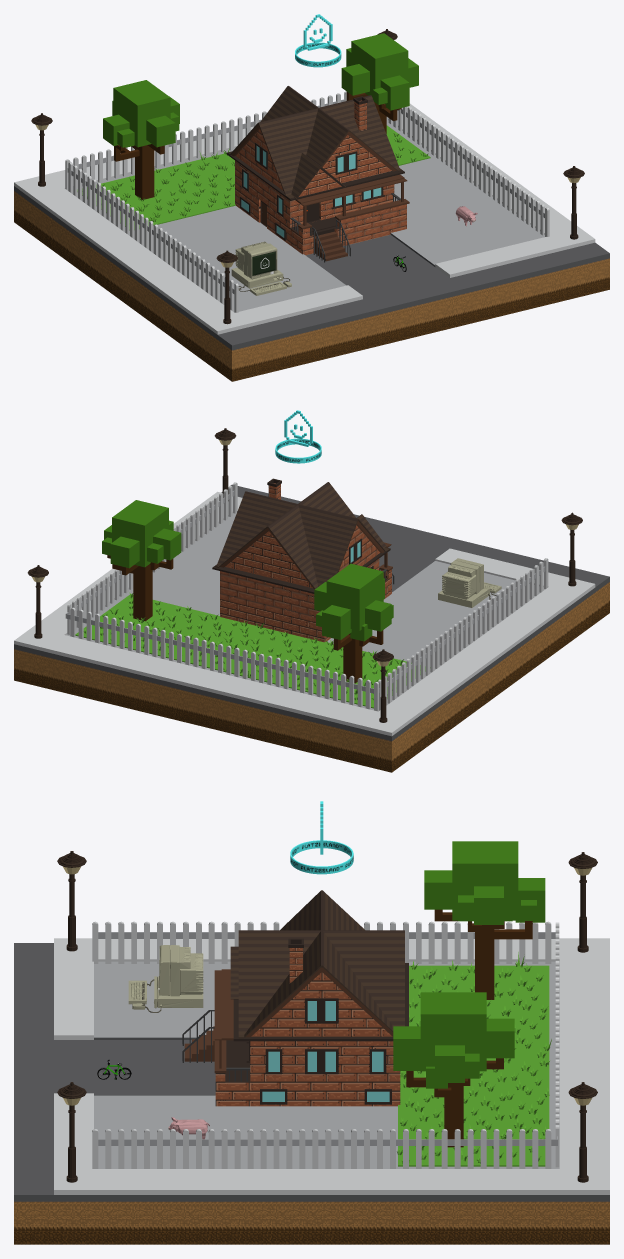
3 renders of one model, top to bottom at view 1: azimuth 30°, elevation 25°; view 2: azimuth 150°, elevation 25°; view 3: azimuth 270°, elevation 25°, orthographic. The views are drawn at different scales.
Parts seen in each view (by area): view 1: Cube.004, Cube.469, OBJRANDOM_RETRO_PC, TYPE_PREMIUM; view 2: Cube.004, Cube.469, OBJRANDOM_RETRO_PC, TYPE_PREMIUM; view 3: Cube.004, Cube.469, OBJRANDOM_RETRO_PC, TYPE_PREMIUM.
Part boxes in pixels (x1,y1,x2,y2): Cube.004: [14, 29, 609, 381]; Cube.469: [226, 86, 409, 262]; OBJRANDOM_RETRO_PC: [231, 241, 291, 295]; TYPE_PREMIUM: [295, 14, 341, 67]; Cube.004: [14, 428, 609, 772]; Cube.469: [212, 478, 394, 642]; OBJRANDOM_RETRO_PC: [438, 558, 501, 607]; TYPE_PREMIUM: [275, 410, 321, 463]; Cube.004: [14, 841, 609, 1244]; Cube.469: [182, 890, 408, 1106]; OBJRANDOM_RETRO_PC: [128, 945, 203, 1012]; TYPE_PREMIUM: [290, 801, 353, 874].
Size of the model in its own units: 4000 by 2417 by 4000.
Materials: 33 (6 with a texture image).
